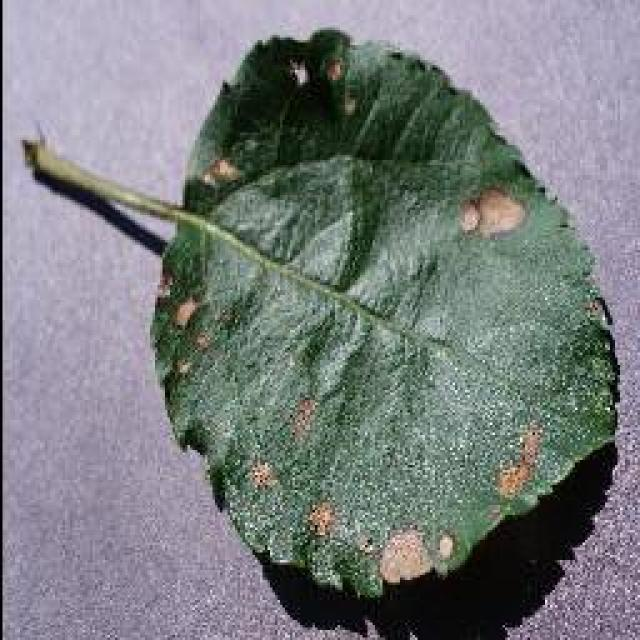Black_rot: (20, 25, 620, 600)
